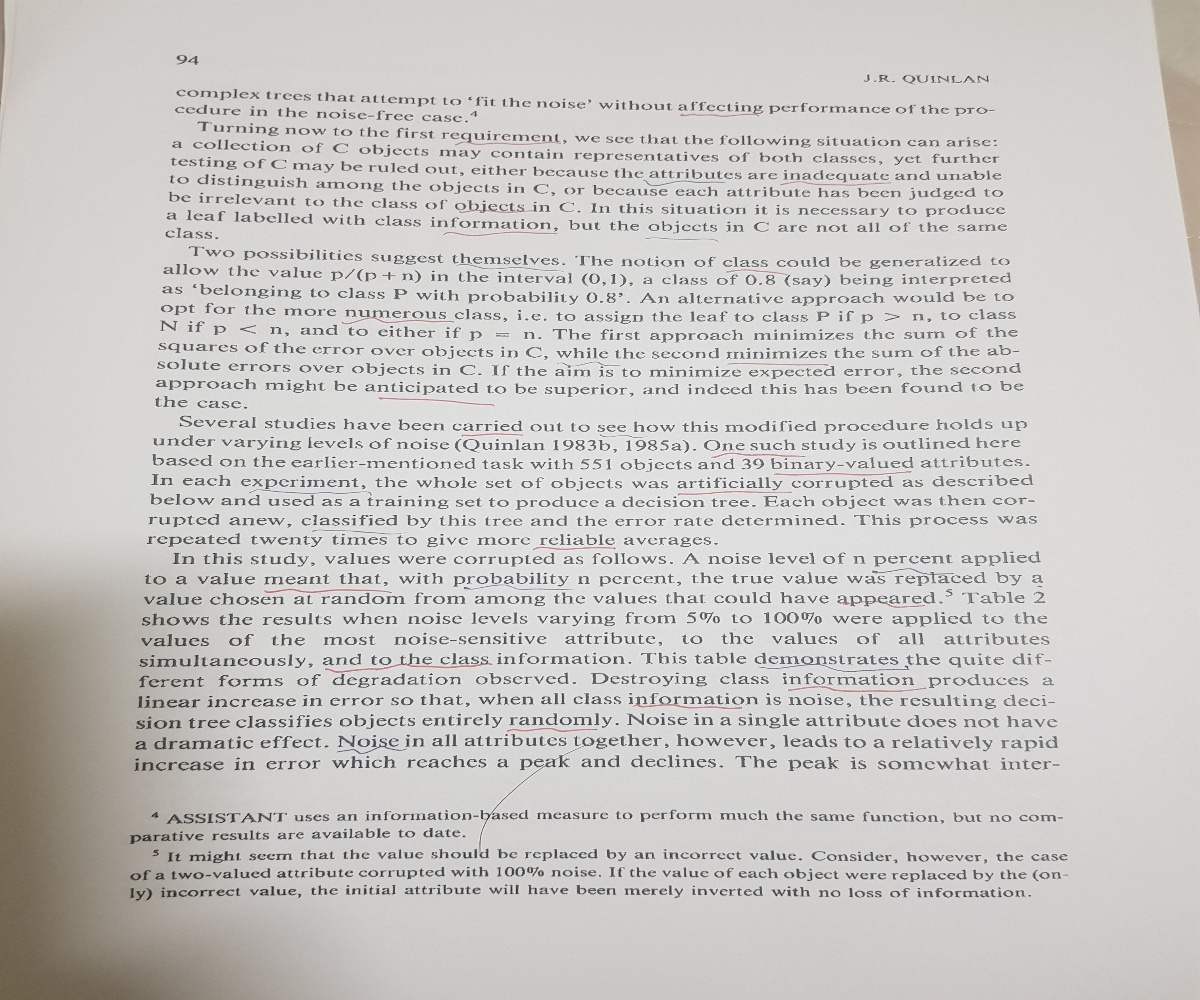underline: (374, 393, 502, 410), (754, 661, 910, 673), (785, 685, 929, 697), (322, 664, 495, 673), (246, 485, 373, 496), (440, 227, 558, 238), (452, 261, 563, 272), (630, 701, 743, 711), (673, 488, 796, 497), (308, 525, 407, 536), (464, 583, 572, 593), (723, 358, 830, 368), (340, 317, 456, 326), (770, 469, 918, 476), (779, 178, 890, 187), (532, 543, 620, 554), (835, 600, 930, 610), (503, 724, 598, 734), (640, 176, 726, 187), (677, 110, 761, 121), (461, 427, 527, 441), (263, 586, 394, 593), (451, 140, 560, 148), (866, 566, 952, 576), (644, 233, 721, 243), (556, 359, 623, 370), (708, 450, 810, 457), (336, 745, 407, 755), (456, 208, 544, 216), (725, 266, 787, 274), (597, 430, 645, 438)
